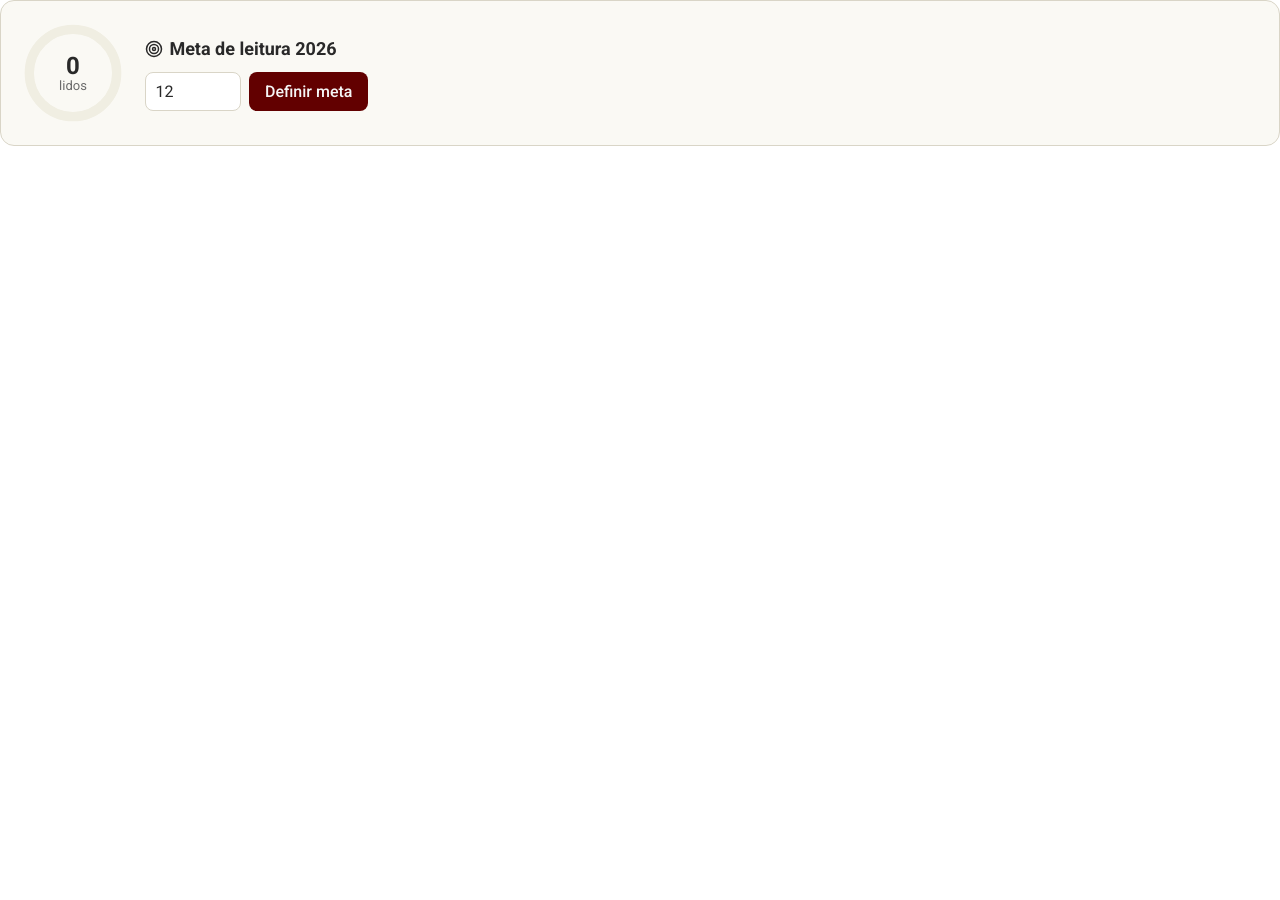
Test: GoalCard › define a meta, mostra quanto falta e permite alterar
Step 1. Replace the text in the number field named "Livros que quero ler neste ano" with "5" → x=193, y=92, box 145,72 -> 241,111
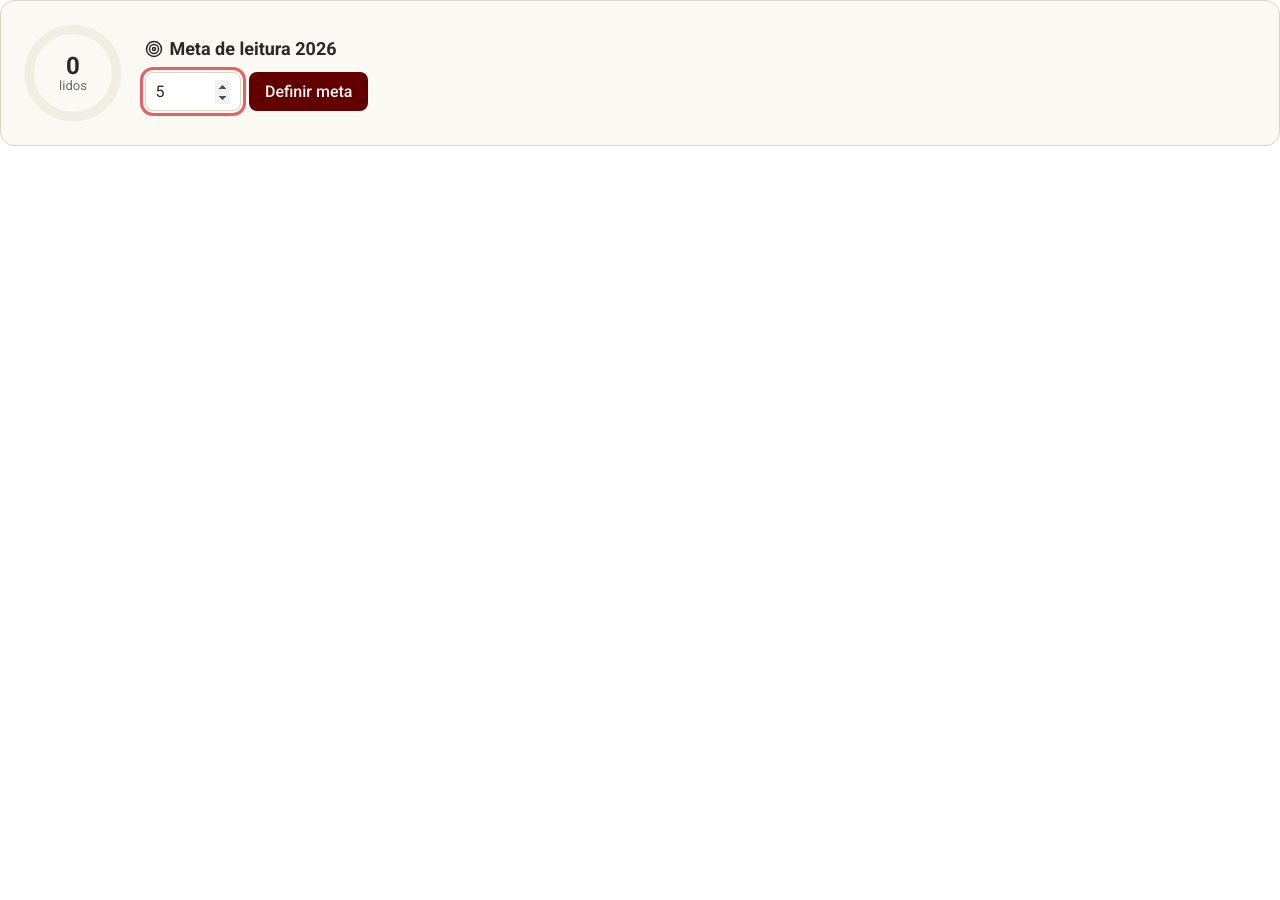
Step 2. Click the button "Definir meta" → x=309, y=92, box 249,72 -> 368,111
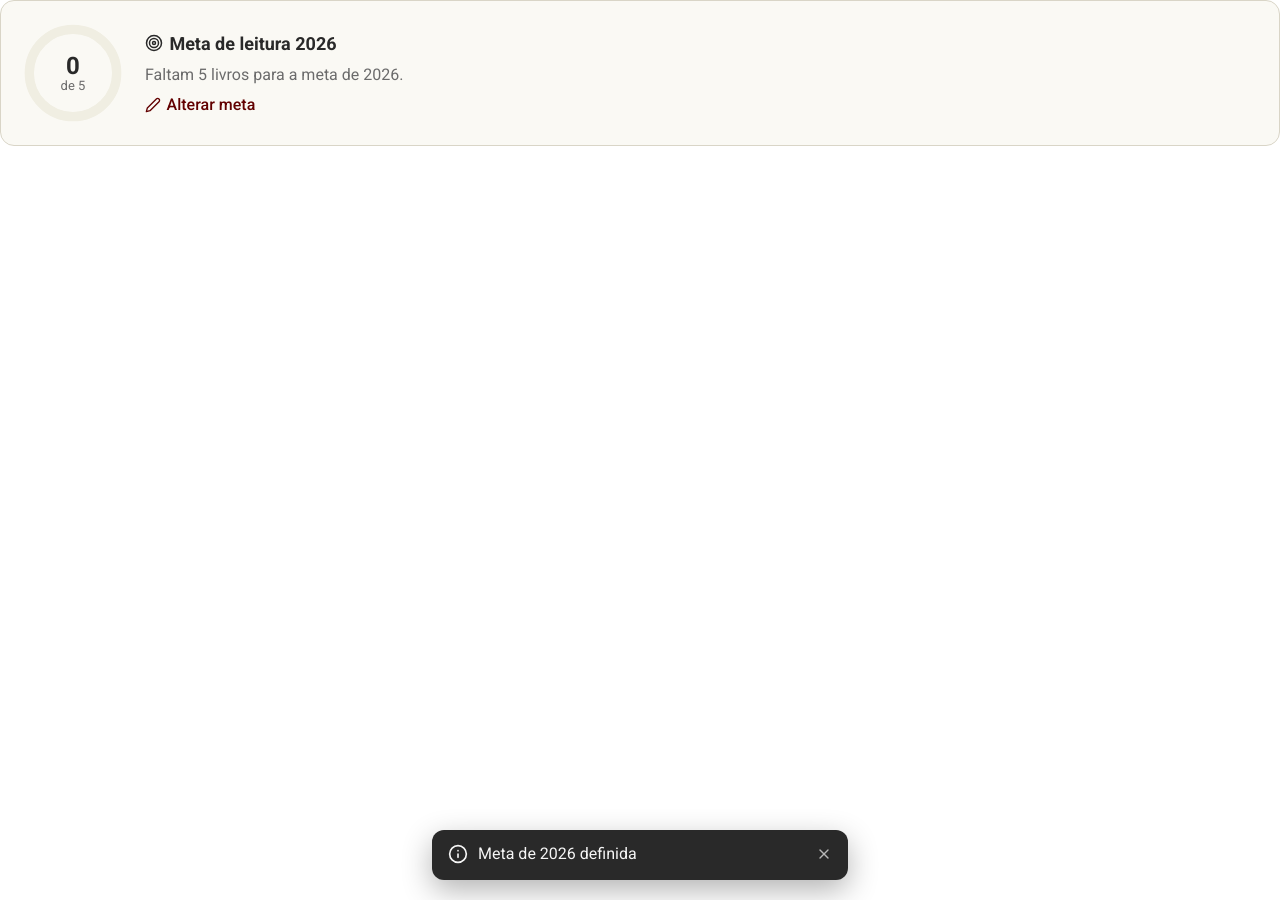
expect the text "Faltam 5 livros para a meta de 2026." is shown: met, box 145,64 -> 404,84
expect the text "de 5" is shown: met, box 61,79 -> 85,93
expect the text "Meta de 2026 definida" is shown: met, box 478,844 -> 637,863
Step 3. Click the button "Alterar meta" → x=200, y=104, box 145,92 -> 255,116
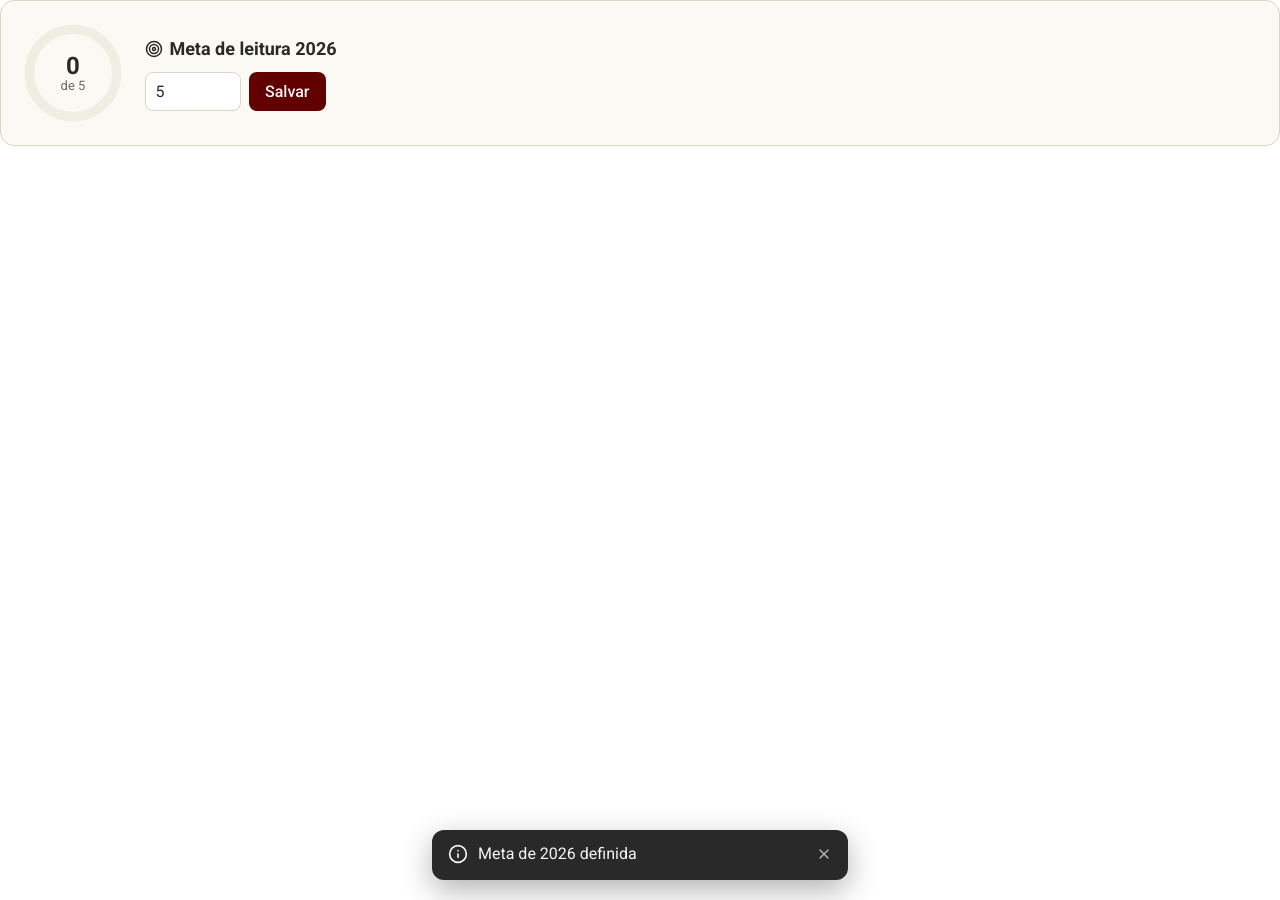
expect the button "Salvar" is shown: met, box 249,72 -> 326,111
